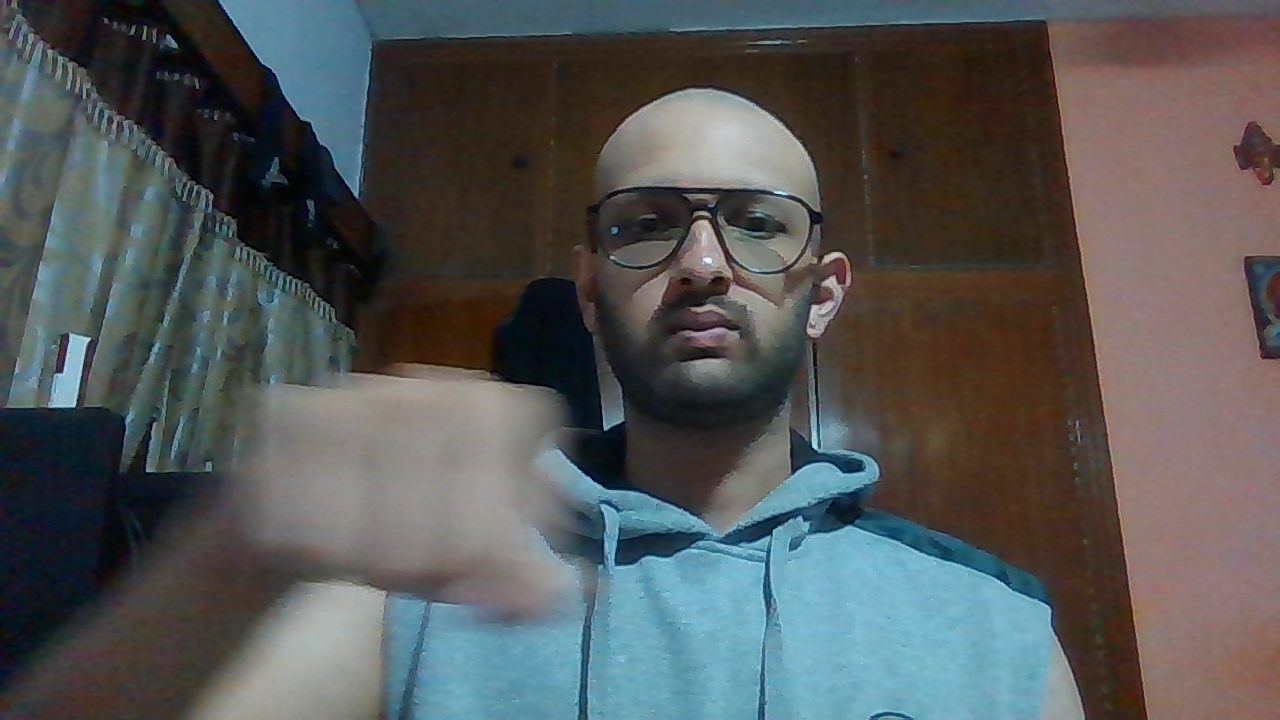Yes: (231, 360, 579, 634)
